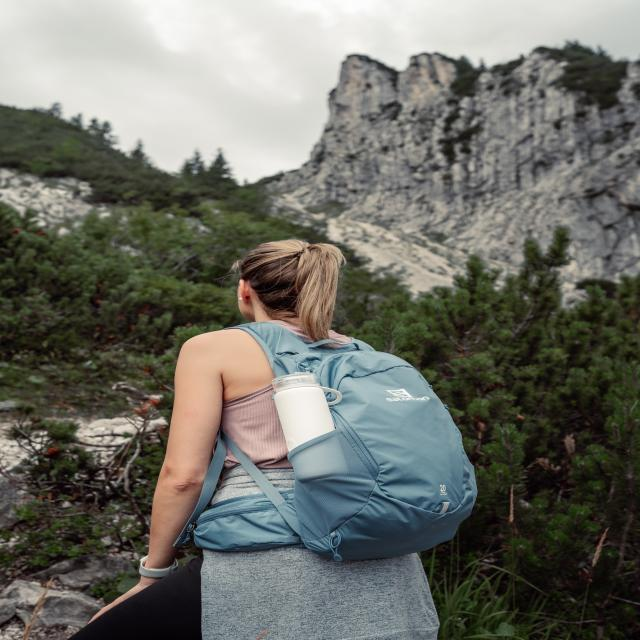backpack: (194, 322, 483, 565)
